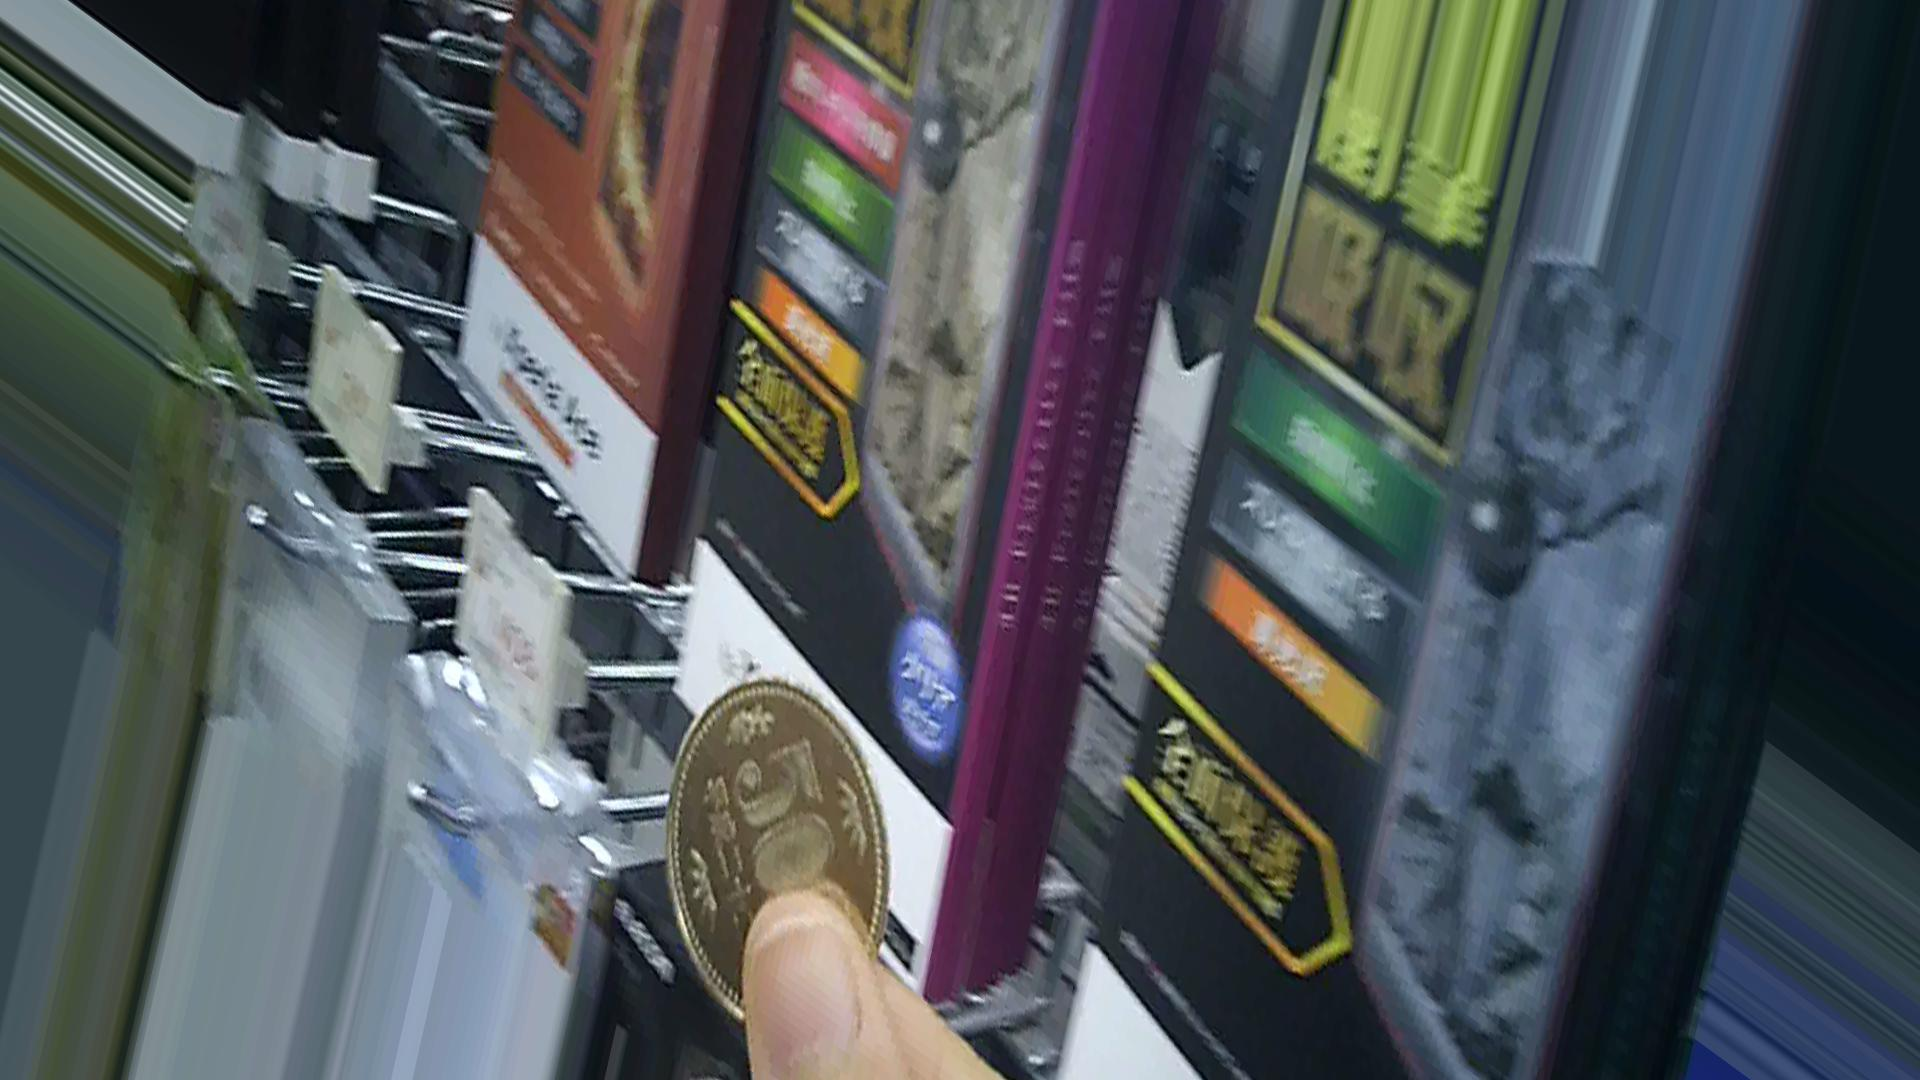500 Yen: (653, 663, 909, 1017)
